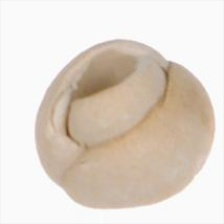L3: (62, 57, 170, 155)
L4: (35, 39, 215, 210)
